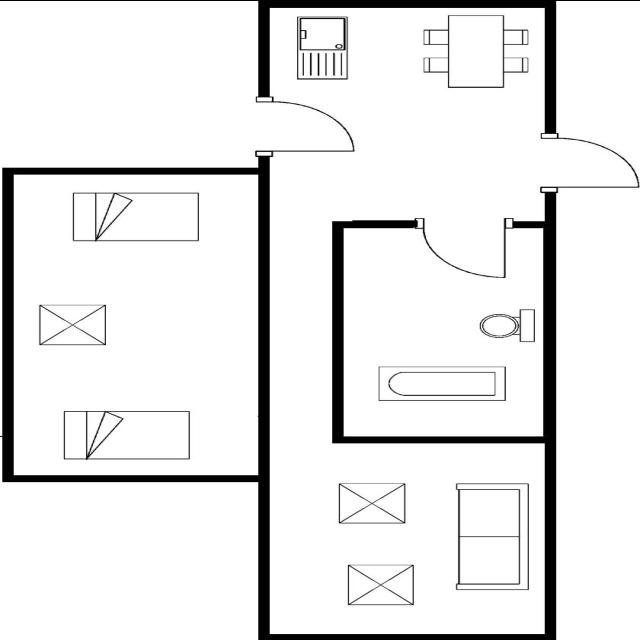bed: (58, 406, 196, 462), (66, 190, 202, 244)
coffee_table: (35, 300, 112, 348), (334, 480, 410, 526), (343, 561, 417, 607)
dining_table: (418, 12, 534, 92)
large_sink: (474, 306, 540, 344)
large_sofa: (451, 480, 533, 592)
sink: (292, 12, 353, 82)
tub: (374, 363, 511, 403)
